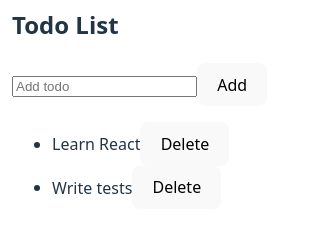
TodoList Component › deletes a todo
The width and height of the screenshot is (332, 225).
Click the button "Delete" next to "Write tests" at (177, 187), box [132,166,221,209]
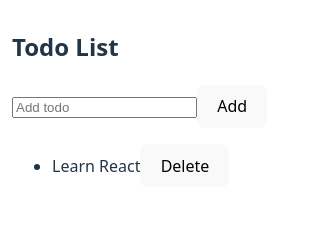
Result: the text "Write tests" is gone
